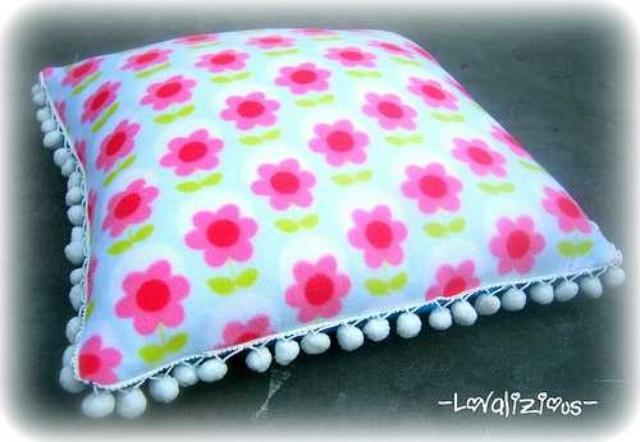pillow: (33, 25, 623, 392)
